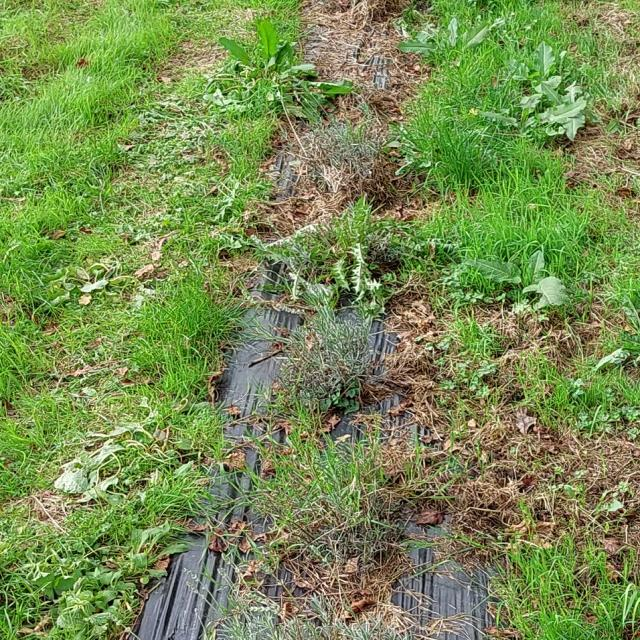organic waste: (201, 14, 367, 141), (46, 242, 192, 340), (47, 432, 193, 528), (446, 236, 589, 331), (392, 0, 496, 73), (485, 37, 561, 90), (526, 80, 580, 139)
